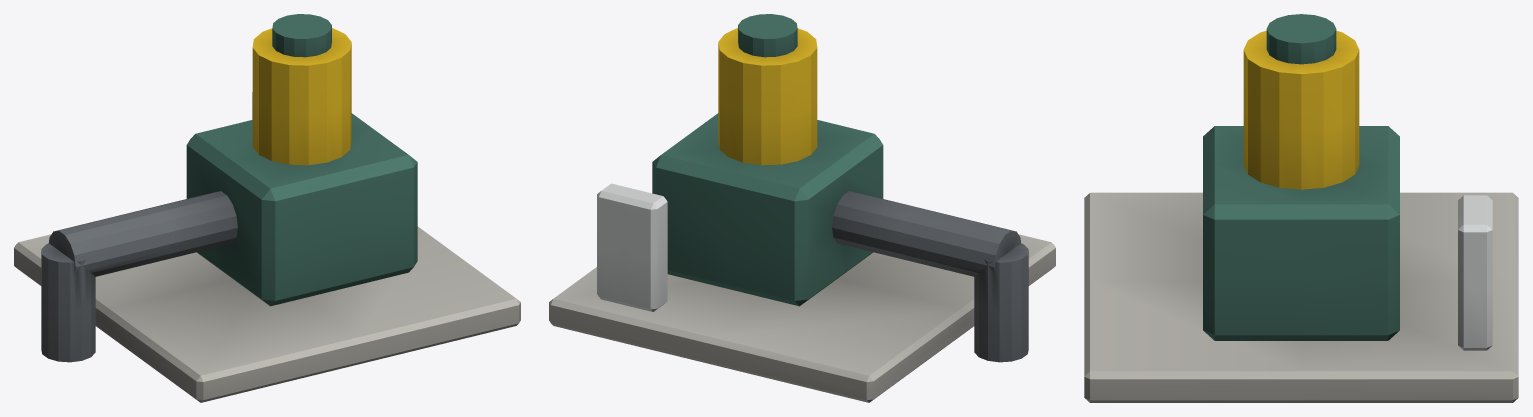
File: pump.glb
The picture shows the model from 3 angles, left to right: view 1: azimuth 30°, elevation 25°; view 2: azimuth 150°, elevation 25°; view 3: azimuth 270°, elevation 25°; orthographic projection. The views are drawn at different scales.
Visible parts, largest first — view 1: pump; view 2: pump; view 3: pump.
Boxes of the visible parts, x1,y1,x2,y2 form: pump: (14, 14, 520, 402); pump: (549, 14, 1055, 402); pump: (1084, 14, 1518, 402).
Bounding box in the file's own units: 0.8886 × 0.59 × 0.75.
